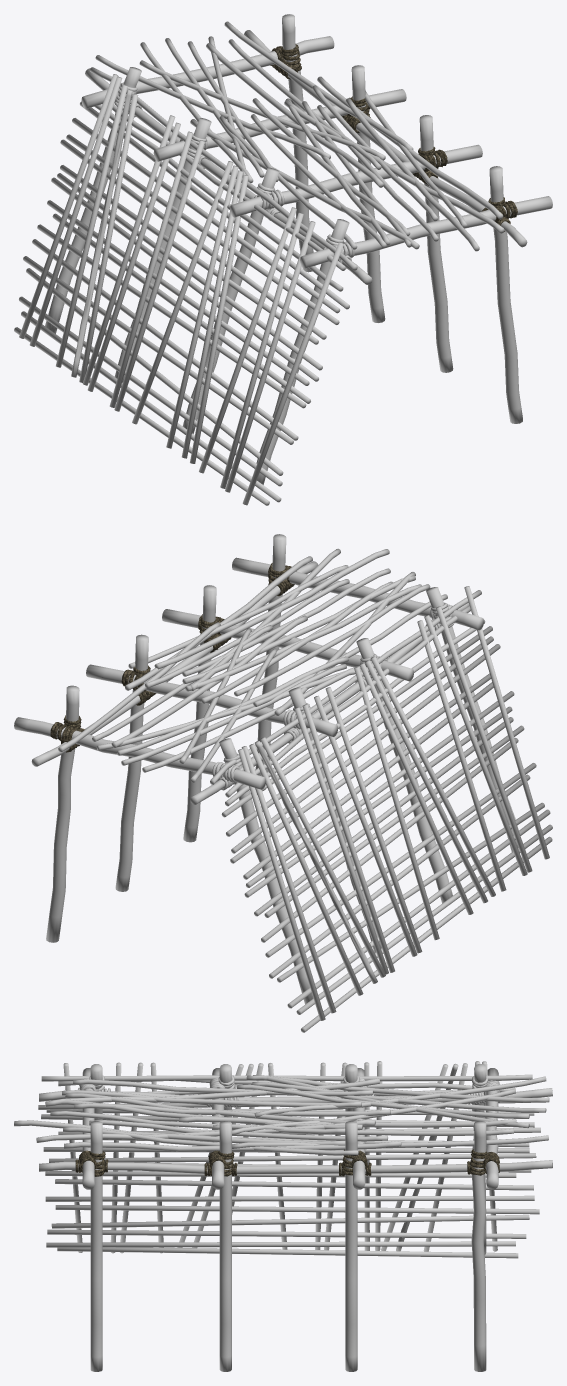
The model's file is midpoly_viking_tent_007.obj.
3 views of the same model, one above another, from view 1: azimuth 30°, elevation 25°; view 2: azimuth 150°, elevation 25°; view 3: azimuth 270°, elevation 25° (orthographic). The views are drawn at different scales.
Visible parts, largest first — view 1: Cylinder.138, Cylinder.139, Cylinder.143, Cylinder.144, Cylinder.142, Cylinder.041, BezierCircle.416, Cylinder.140, Cylinder.039, Cylinder.042, Cylinder.043, Cylinder.037 (+61 smaller); view 2: Cylinder.137, Cylinder.140, Cylinder.144, Cylinder.136, Cylinder.141, Cylinder.143, Cylinder.139, BezierCircle.416, Cylinder.142, Cylinder.035, Cylinder.047, Cylinder.038 (+61 smaller); view 3: Cylinder.146, Cylinder.137, Cylinder.138, Cylinder.139, Cylinder.140, Cylinder.051, Cylinder.056, Cylinder.053, Cylinder.055, Cylinder.054, Cylinder.057, Cylinder.062 (+51 smaller).
Part boxes in pixels (left/top/right/bottom): Cylinder.138: left=489, top=166, right=522, bottom=423; Cylinder.139: left=419, top=115, right=453, bottom=372; Cylinder.143: left=300, top=196, right=552, bottom=268; Cylinder.144: left=81, top=36, right=334, bottom=108; Cylinder.142: left=230, top=144, right=482, bottom=217; Cylinder.041: left=71, top=89, right=132, bottom=377; BezierCircle.416: left=270, top=44, right=517, bottom=231; Cylinder.140: left=351, top=65, right=385, bottom=322; Cylinder.039: left=79, top=94, right=138, bottom=382; Cylinder.042: left=56, top=84, right=127, bottom=367; Cylinder.043: left=166, top=165, right=238, bottom=448; Cylinder.037: left=109, top=131, right=192, bottom=407; Cylinder.137: left=46, top=685, right=79, bottom=942; Cylinder.140: left=115, top=634, right=148, bottom=891; Cylinder.144: left=14, top=717, right=266, bottom=789; Cylinder.136: left=219, top=738, right=313, bottom=1004; Cylinder.141: left=86, top=664, right=338, bottom=736; Cylinder.143: left=232, top=557, right=483, bottom=630; Cylinder.139: left=183, top=585, right=216, bottom=842; BezierCircle.416: left=50, top=563, right=296, bottom=752; Cylinder.142: left=162, top=609, right=413, bottom=681; Cylinder.035: left=354, top=666, right=439, bottom=940; Cylinder.047: left=417, top=620, right=506, bottom=891; Cylinder.038: left=302, top=704, right=394, bottom=972; Cylinder.146: left=39, top=1160, right=552, bottom=1174; Cylinder.137: left=471, top=1121, right=486, bottom=1371; Cylinder.138: left=90, top=1121, right=102, bottom=1371; Cylinder.139: left=219, top=1121, right=231, bottom=1371; Cylinder.140: left=345, top=1121, right=357, bottom=1371; Cylinder.051: left=45, top=1195, right=534, bottom=1201; Cylinder.056: left=51, top=1214, right=529, bottom=1228; Cylinder.053: left=55, top=1205, right=539, bottom=1214; Cylinder.055: left=47, top=1229, right=526, bottom=1238; Cylinder.054: left=46, top=1241, right=515, bottom=1247; Cylinder.057: left=57, top=1247, right=518, bottom=1258; Cylinder.062: left=55, top=1179, right=533, bottom=1190.
Size of the model in its own units: 5.76 by 4.76 by 9.35.
